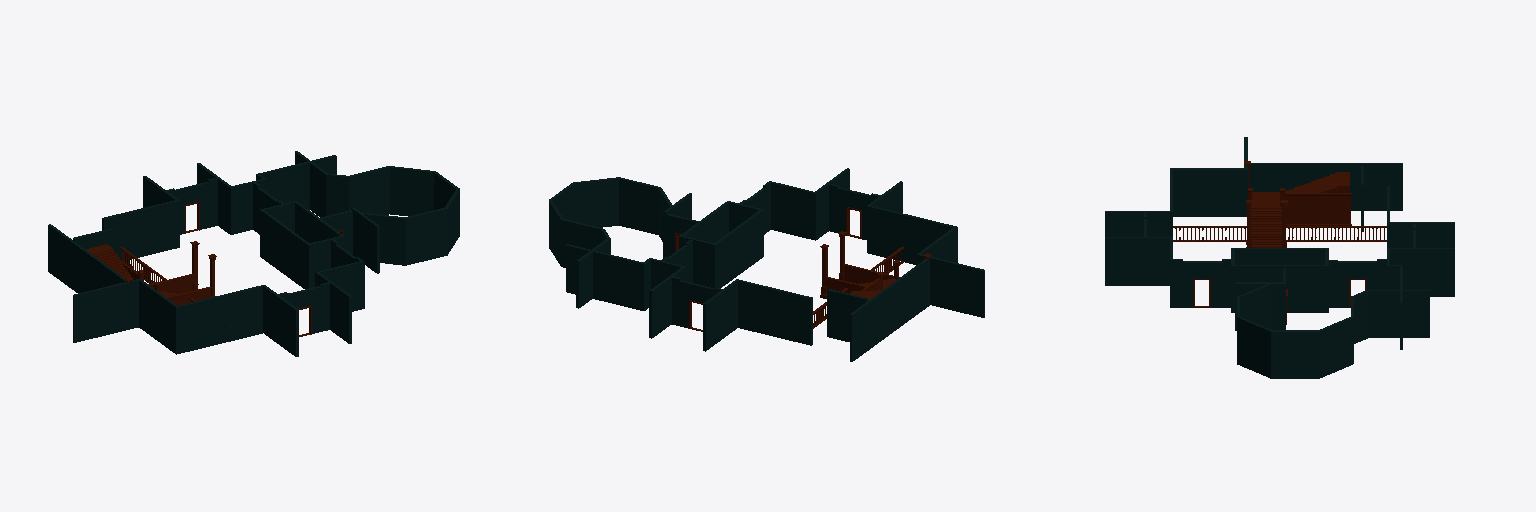
File: district_test.obj
The picture shows the model from 3 angles: view 1: azimuth 30°, elevation 25°; view 2: azimuth 150°, elevation 25°; view 3: azimuth 270°, elevation 25°; orthographic projection.
Visible parts, largest first — view 1: polySurface478; view 2: polySurface478; view 3: polySurface478.
Part boxes in pixels (left/top/right/bottom): polySurface478: left=48, top=151, right=459, bottom=356; polySurface478: left=549, top=168, right=984, bottom=361; polySurface478: left=1105, top=137, right=1454, bottom=378.
Size of the model in its own units: 35.49 by 4.42 by 27.